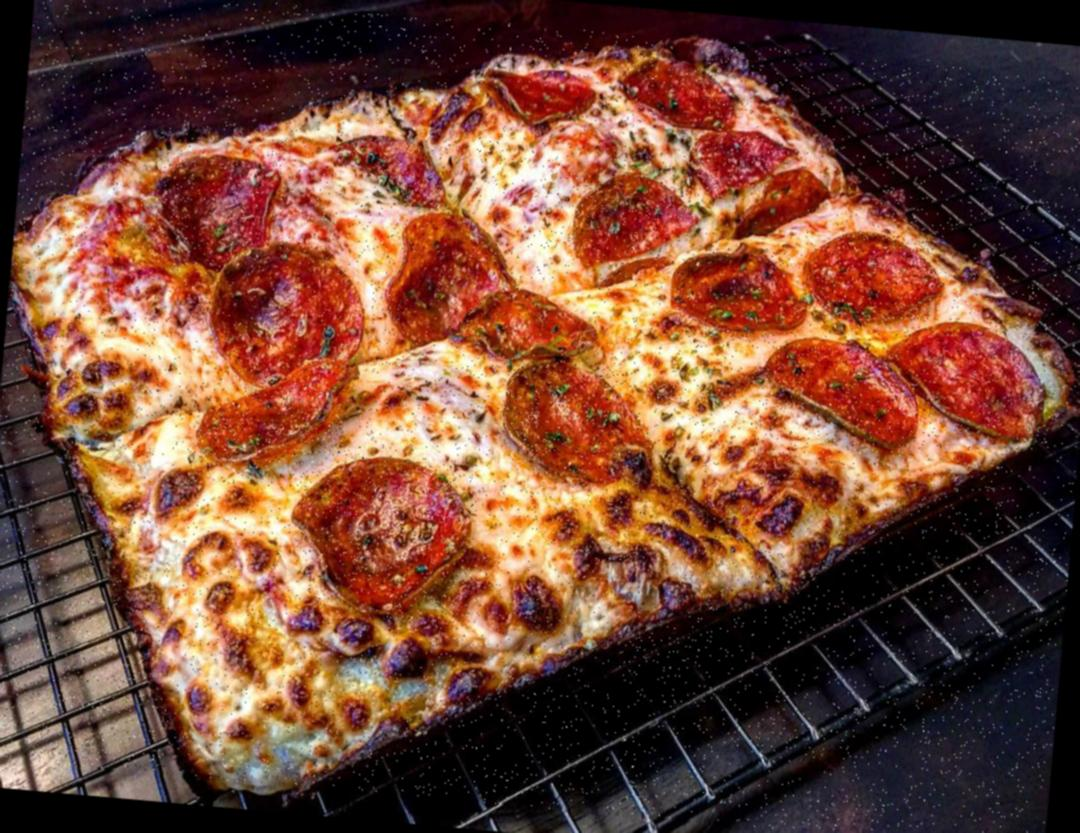Pepperoni: (294, 460, 479, 631), (194, 346, 355, 478), (758, 332, 930, 452), (218, 247, 368, 375), (389, 206, 520, 348), (893, 322, 1048, 442), (500, 358, 644, 480), (805, 225, 946, 323), (153, 158, 276, 265), (567, 169, 699, 268), (670, 244, 808, 334), (462, 283, 594, 364), (332, 129, 462, 210), (728, 162, 840, 250), (622, 52, 738, 132), (687, 129, 792, 204), (480, 69, 594, 131)
Pizza: (0, 0, 1080, 833)
